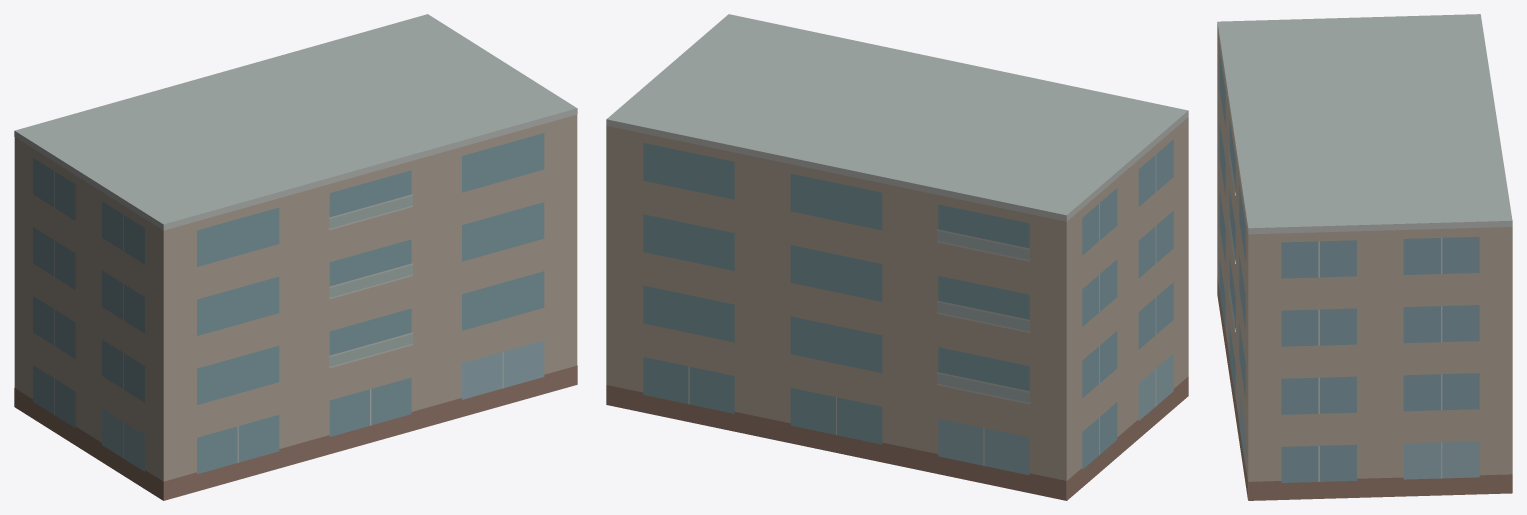
File: survey-upis-32740223.glb
3 views of the same model, side by side, from view 1: azimuth 30°, elevation 25°; view 2: azimuth 150°, elevation 25°; view 3: azimuth 270°, elevation 25° (orthographic). The views are drawn at different scales.
Parts seen in each view (by area): view 1: survey-upis-32740223.tmp; view 2: survey-upis-32740223.tmp; view 3: survey-upis-32740223.tmp.
Part boxes in pixels (x1=…): survey-upis-32740223.tmp: x1=14, y1=14, x2=577, y2=500; survey-upis-32740223.tmp: x1=606, y1=14, x2=1188, y2=500; survey-upis-32740223.tmp: x1=1217, y1=14, x2=1512, y2=500.
Size of the model in its own units: 18.36 by 10.89 by 10.7.
